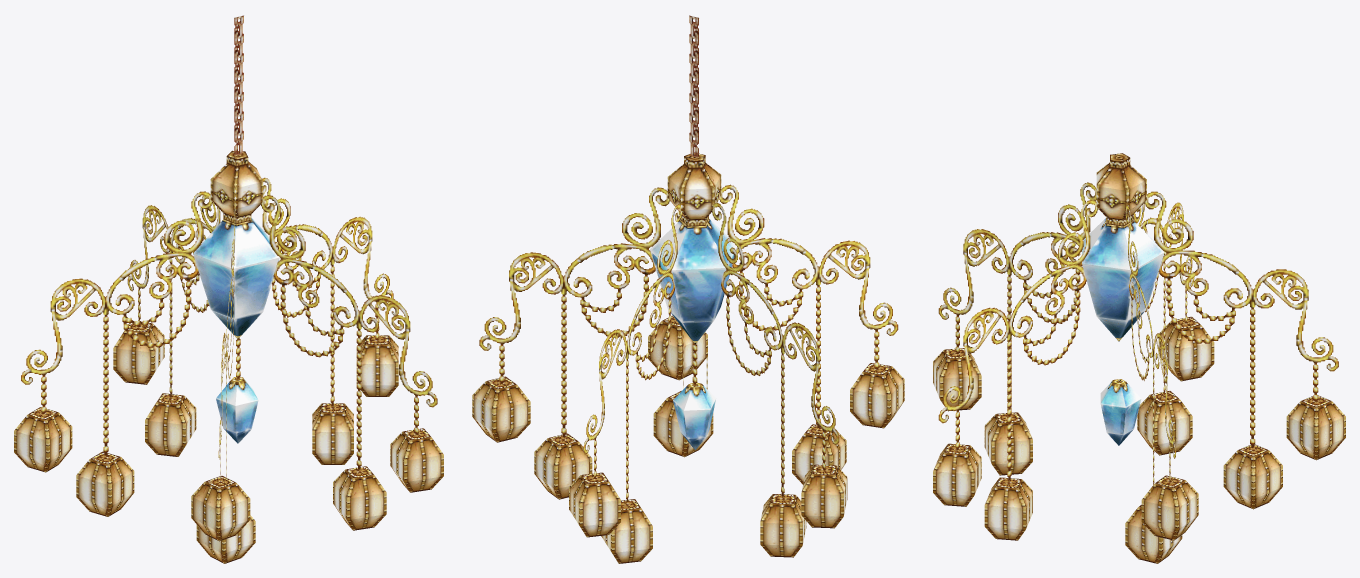
The picture shows the model from 3 angles, left to right: view 1: azimuth 30°, elevation 25°; view 2: azimuth 150°, elevation 25°; view 3: azimuth 270°, elevation 25°; orthographic projection.
Parts seen in each view (by area): view 1: rachel_chandelier; view 2: rachel_chandelier; view 3: rachel_chandelier.
Part boxes in pixels (x1,y1,x2,y2): rachel_chandelier: (14, 15, 443, 563); rachel_chandelier: (472, 15, 904, 563); rachel_chandelier: (933, 153, 1345, 563).
Bounding box in the file's own units: 0.0358 × 0.0441 × 0.0342.
Materials: 1 (1 with a texture image).
